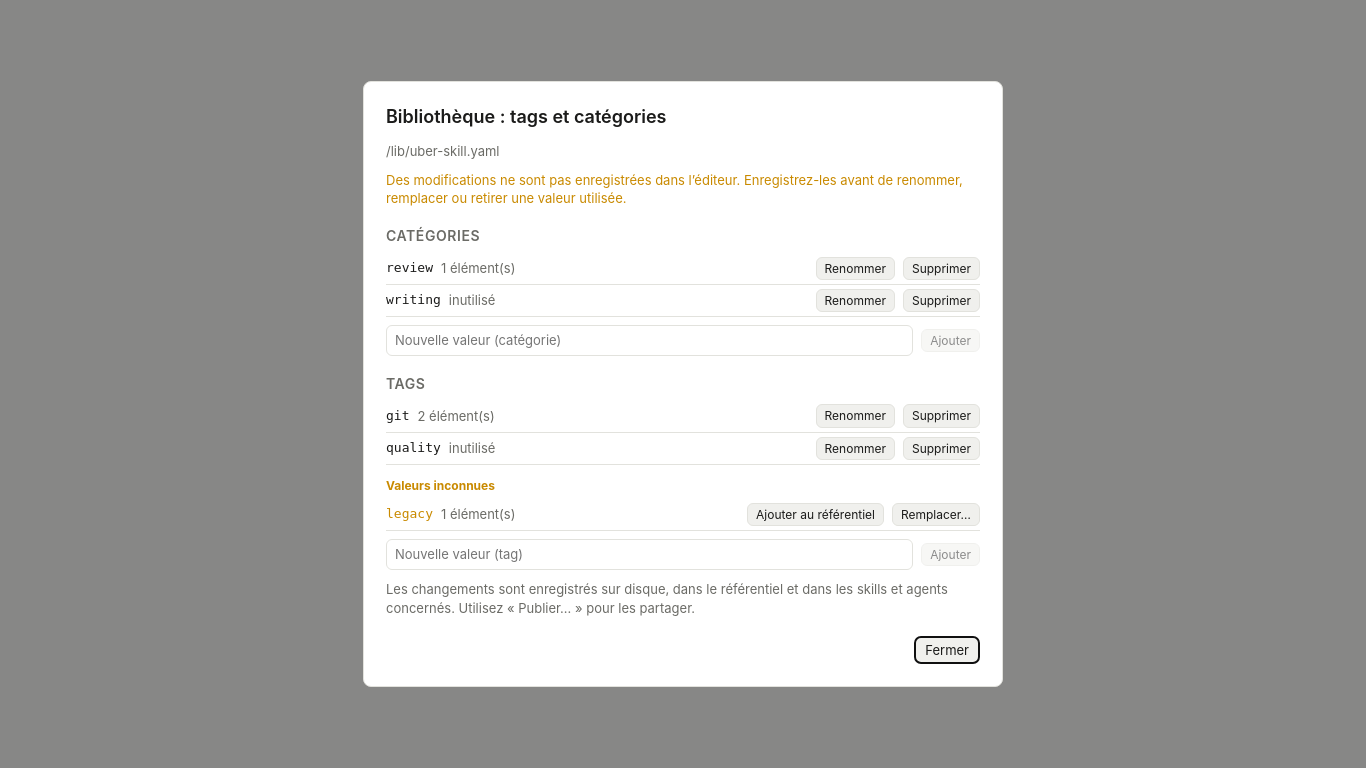
Test: registry administration › does not rewrite items while the editor holds unsaved changes
Click the button with aria-label "Renommer git": (855, 416) [816,404,895,428]
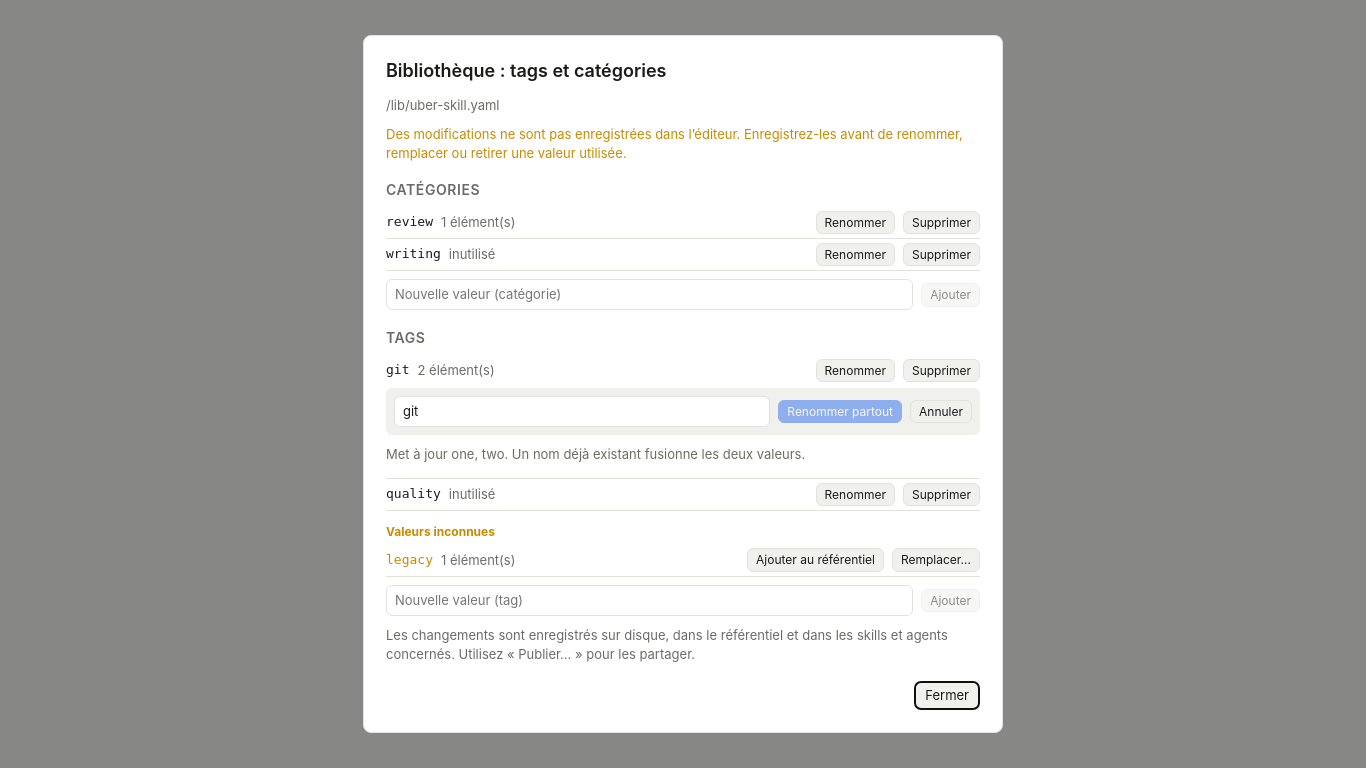
Now the button "Renommer partout" is disabled, box [778,400,902,423]
Click the button with aria-label "Renommer quality": (855, 494) [816,483,895,506]
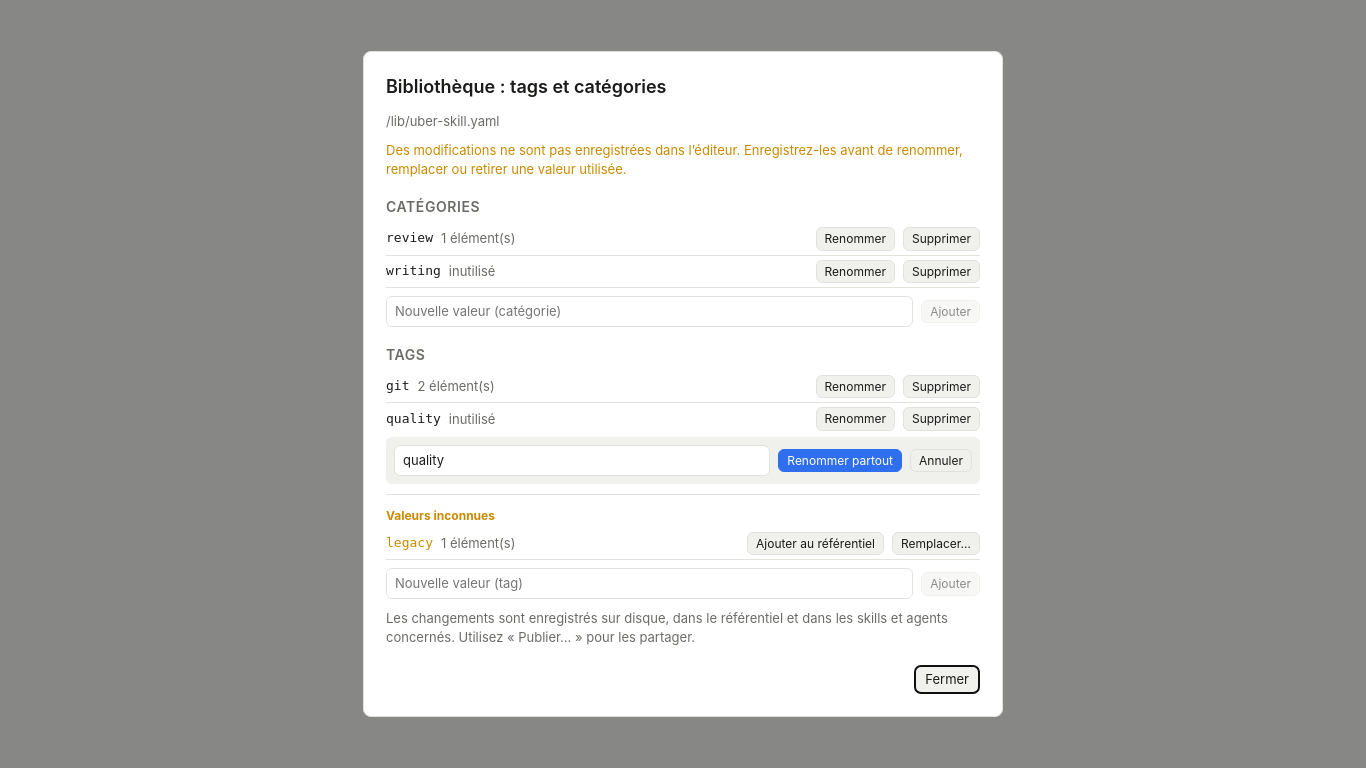
Now the button "Renommer partout" is enabled, box [778,448,902,472]
